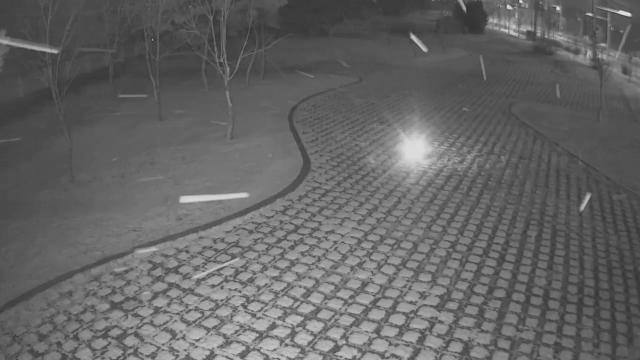fire: (400, 134, 432, 162)
